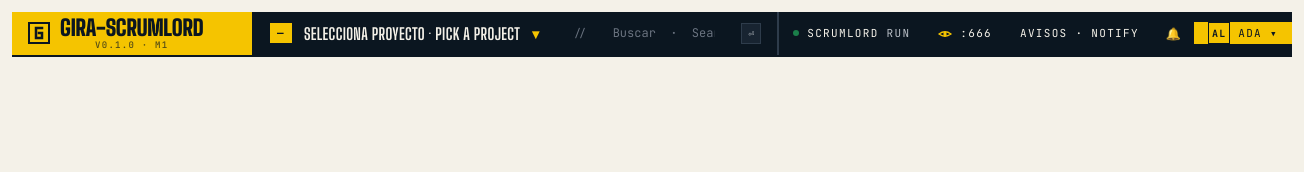
Test: TopBar › renders the brand and opens the project picker with the loaded projects
Expected: the text "gira-scrumlord" is shown, [60,17,204,39]
Click the button "— Selecciona proyecto · Pick a project ▾".
click(405, 33)  # box [252,12,558,55]
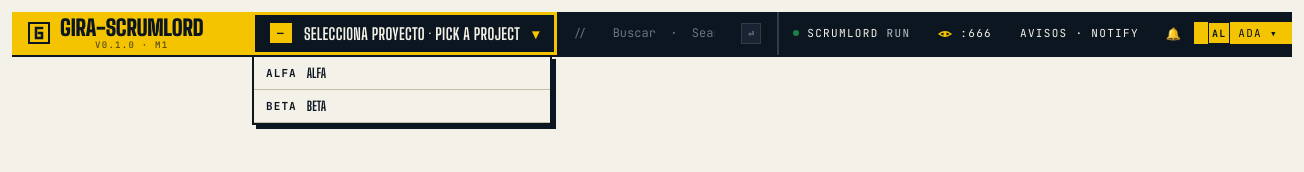
Expected: the text "ALFA" is shown, [266,66,297,80]
Expected: the text "BETA" is shown, [266,99,297,113]
